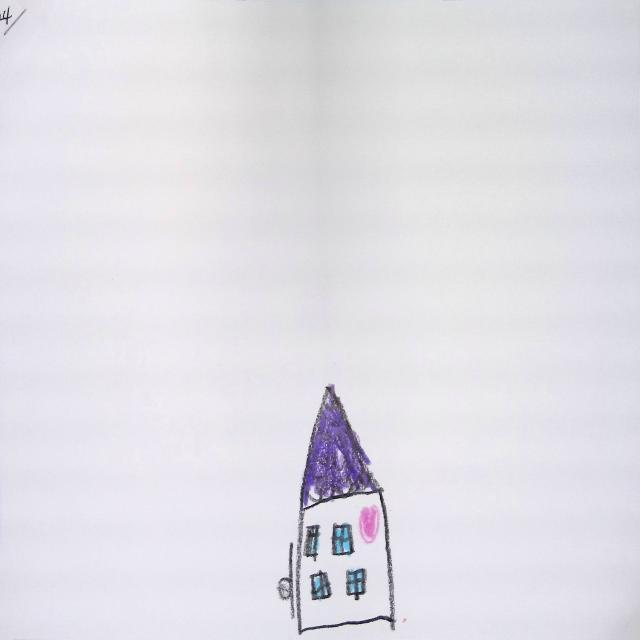house: (279, 386, 396, 636)
roof: (301, 385, 382, 510)
wall: (300, 491, 395, 634)
window: (332, 525, 354, 556), (311, 569, 333, 600), (304, 524, 319, 559), (346, 568, 364, 597)
